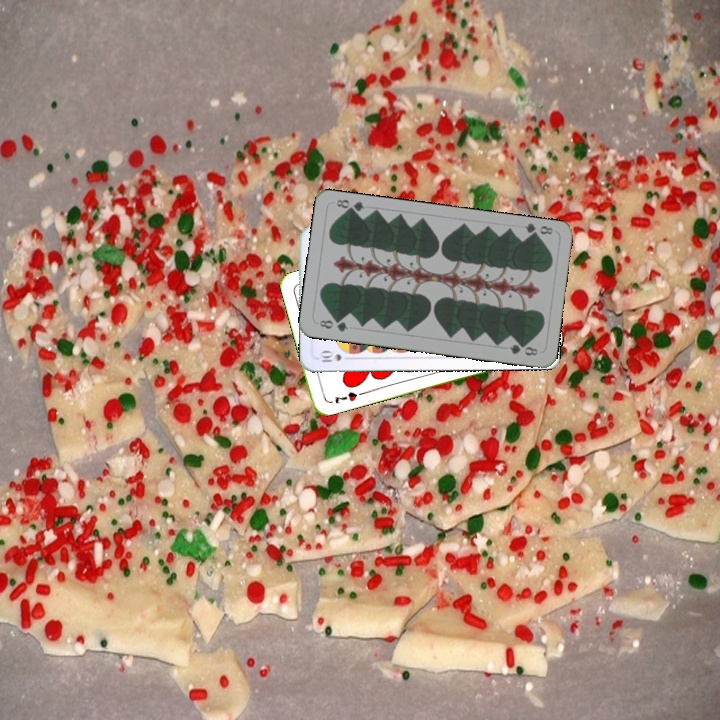G8: (520, 220, 555, 241), (315, 316, 351, 335)
H7: (330, 388, 360, 406)
S10: (314, 348, 355, 365)
